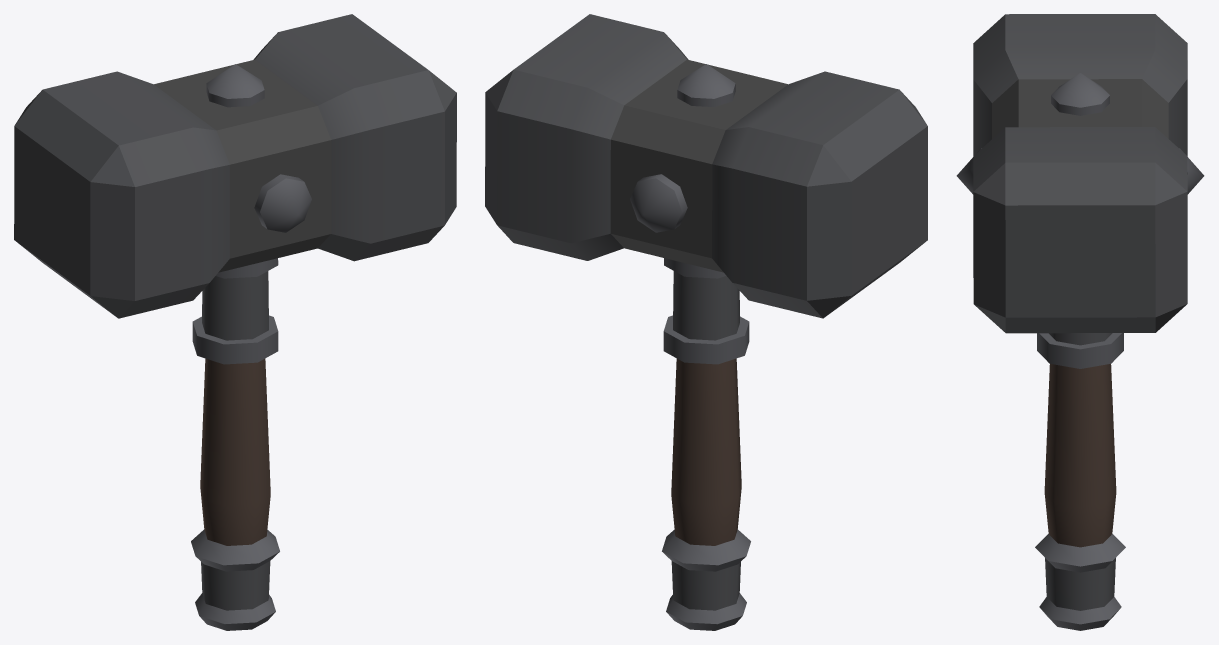
File: Hammer_RHand_2.fbx
3 renders of one model, left to right at view 1: azimuth 30°, elevation 25°; view 2: azimuth 150°, elevation 25°; view 3: azimuth 270°, elevation 25°, orthographic.
Parts seen in each view (by area): view 1: Hammer_RHand_2; view 2: Hammer_RHand_2; view 3: Hammer_RHand_2.
Part boxes in pixels (left/top/right/bottom): Hammer_RHand_2: left=14, top=14, right=456, bottom=630; Hammer_RHand_2: left=485, top=14, right=927, bottom=630; Hammer_RHand_2: left=956, top=14, right=1204, bottom=630.
Size of the model in its own units: 34.74 by 50.2 by 20.71.
